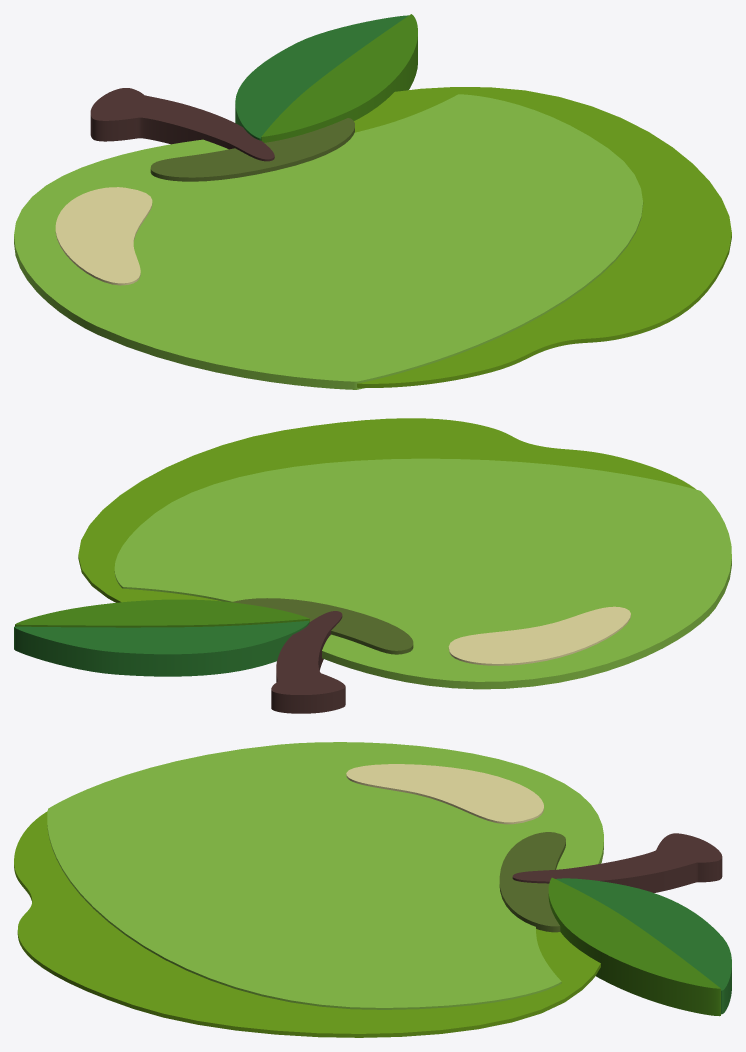
File: emoji_u1f34f.glb
3 renders of one model, top to bottom at view 1: azimuth 30°, elevation 25°; view 2: azimuth 150°, elevation 25°; view 3: azimuth 270°, elevation 25°, orthographic. The views are drawn at different scales.
Visible parts, largest first — view 1: emoji_u1f34f; view 2: emoji_u1f34f; view 3: emoji_u1f34f.
Boxes of the visible parts, left/top/right/bottom form: emoji_u1f34f: left=14, top=14, right=731, bottom=389; emoji_u1f34f: left=14, top=418, right=731, bottom=713; emoji_u1f34f: left=14, top=742, right=731, bottom=1037.
Size of the model in its own units: 0.0316 by 0.0014 by 0.0331.
